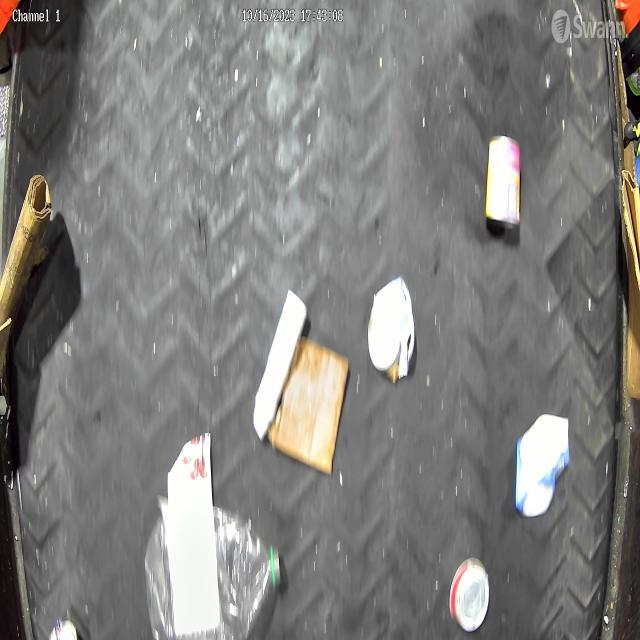can: (484, 130, 524, 242), (445, 554, 495, 640)
plastic_bottle: (142, 499, 282, 640)
